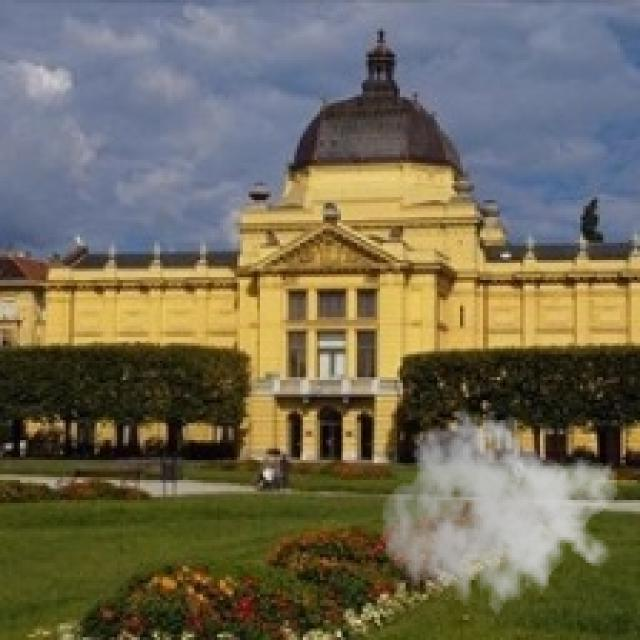Smoke: (380, 403, 620, 626)
